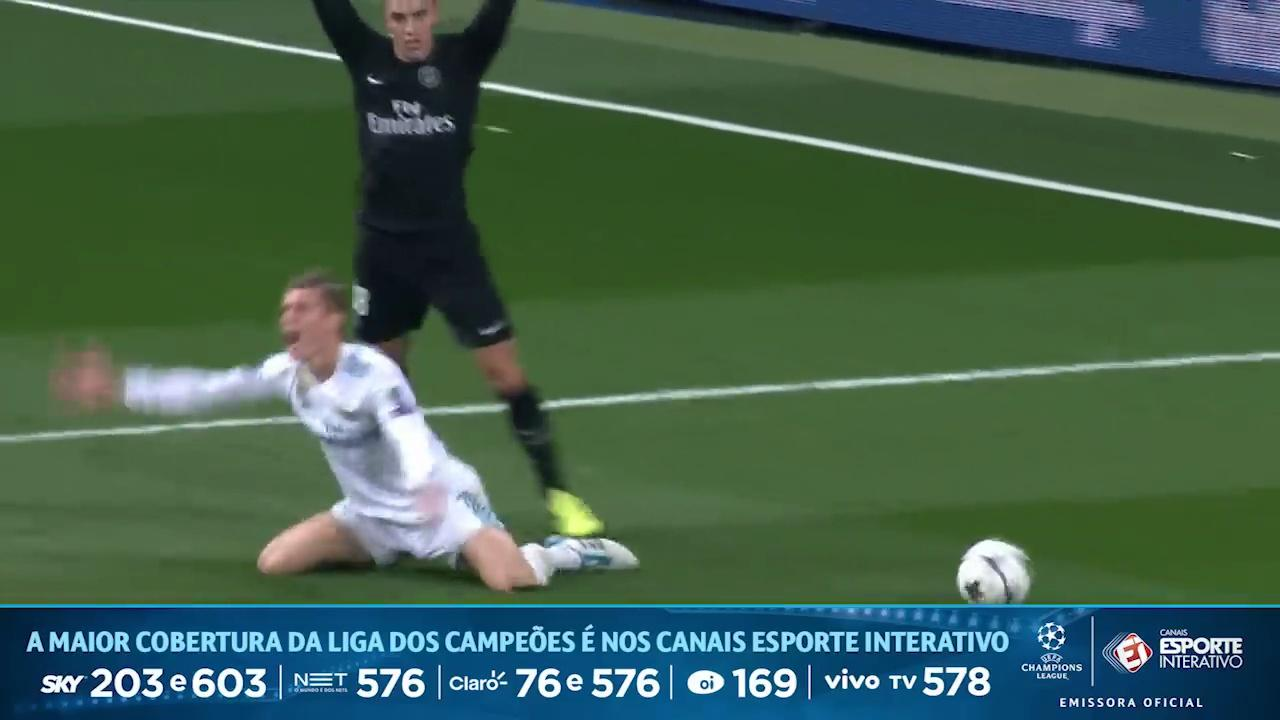football: (957, 539, 1031, 603)
player: (53, 272, 636, 590), (313, 0, 602, 536)
